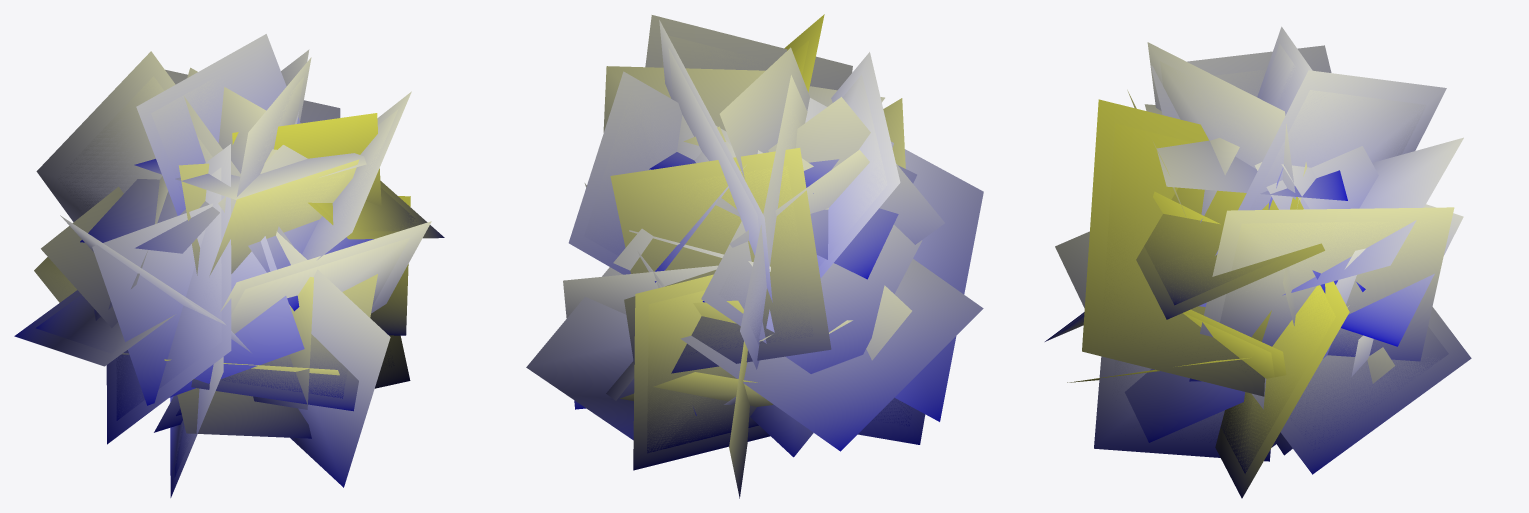
The picture shows the model from 3 angles, left to right: view 1: azimuth 30°, elevation 25°; view 2: azimuth 150°, elevation 25°; view 3: azimuth 270°, elevation 25°; orthographic projection. The views are drawn at different scales.
Parts seen in each view (by area): view 1: Bush_Small, Bush_Small_LOD0; view 2: Bush_Small_LOD0, Bush_Small; view 3: Bush_Small_LOD0, Bush_Small.
Part boxes in pixels (x1=…): Bush_Small: x1=36, y1=67, x2=416, y2=477; Bush_Small_LOD0: x1=14, y1=34, x2=444, y2=497; Bush_Small_LOD0: x1=563, y1=14, x2=983, y2=498; Bush_Small: x1=526, y1=35, x2=944, y2=457; Bush_Small_LOD0: x1=1045, y1=26, x2=1471, y2=498; Bush_Small: x1=1055, y1=44, x2=1463, y2=473.
Bounding box in the file's own units: 1.06 × 1.17 × 1.27.
